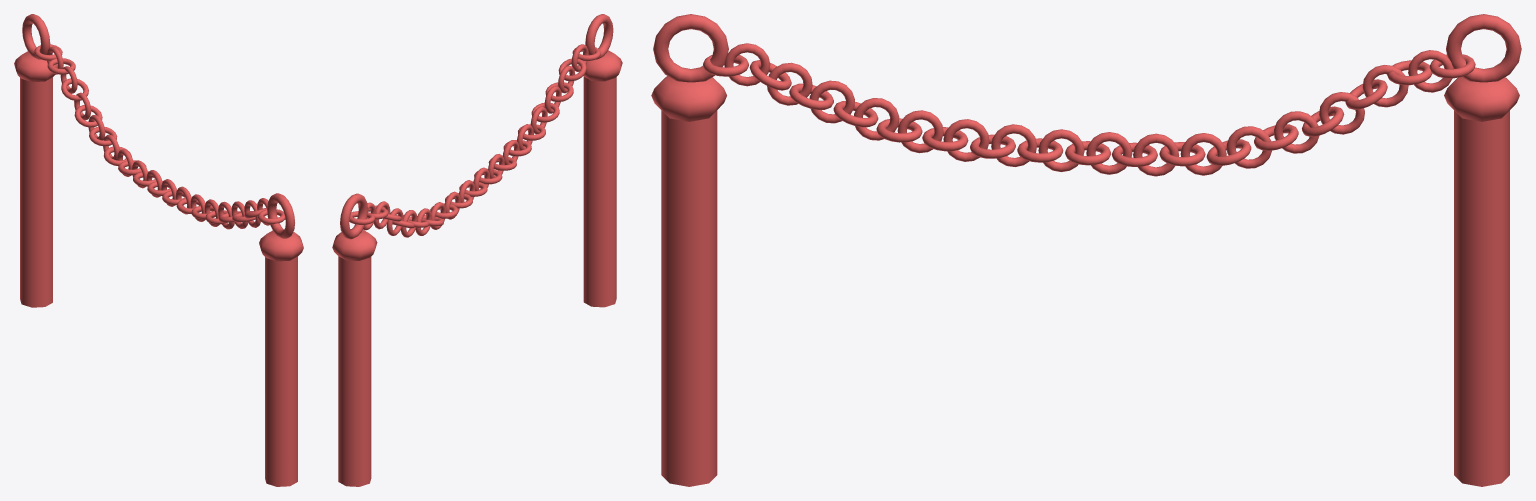
The model's file is lavaDing_08.fbx.
3 views of the same model, side by side, from view 1: azimuth 30°, elevation 25°; view 2: azimuth 150°, elevation 25°; view 3: azimuth 270°, elevation 25° (orthographic). The views are drawn at different scales.
Parts seen in each view (by area): view 1: Torus.002; view 2: Torus.002; view 3: Torus.002.
Boxes of the visible parts, x1,y1,x2,y2 form: Torus.002: (14,14,303,486); Torus.002: (332,14,622,486); Torus.002: (651,14,1521,486).
Size of the model in its own units: 16.99 by 114 by 195.
